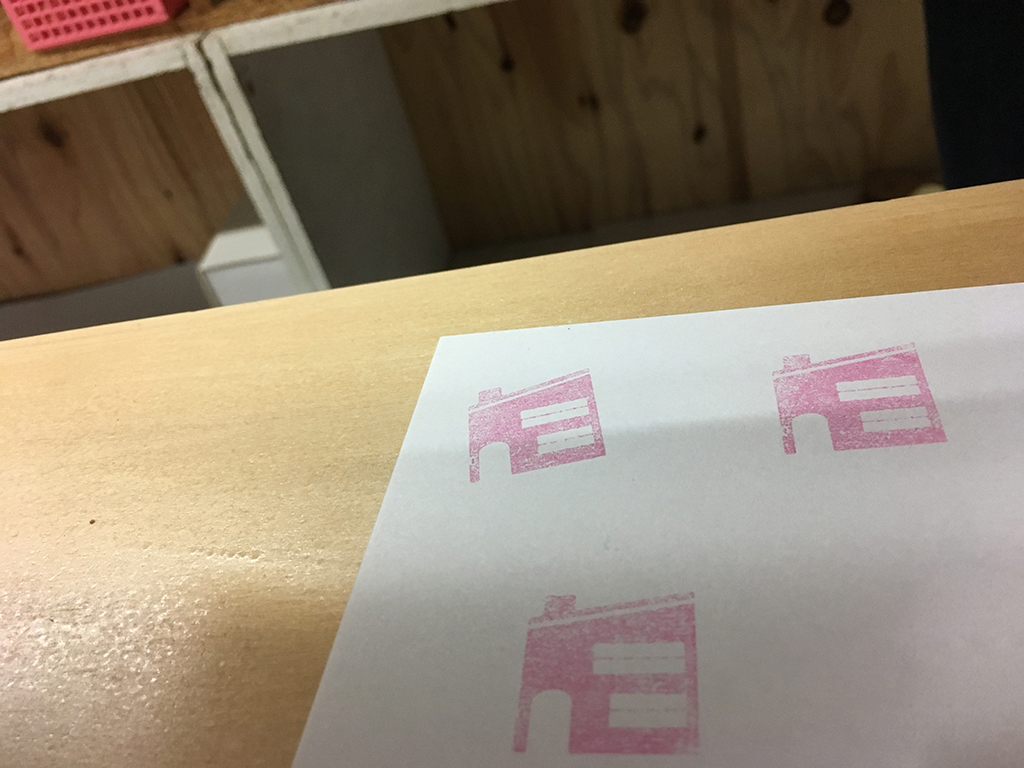house: (506, 581, 710, 766), (764, 332, 962, 459), (456, 363, 609, 485)
